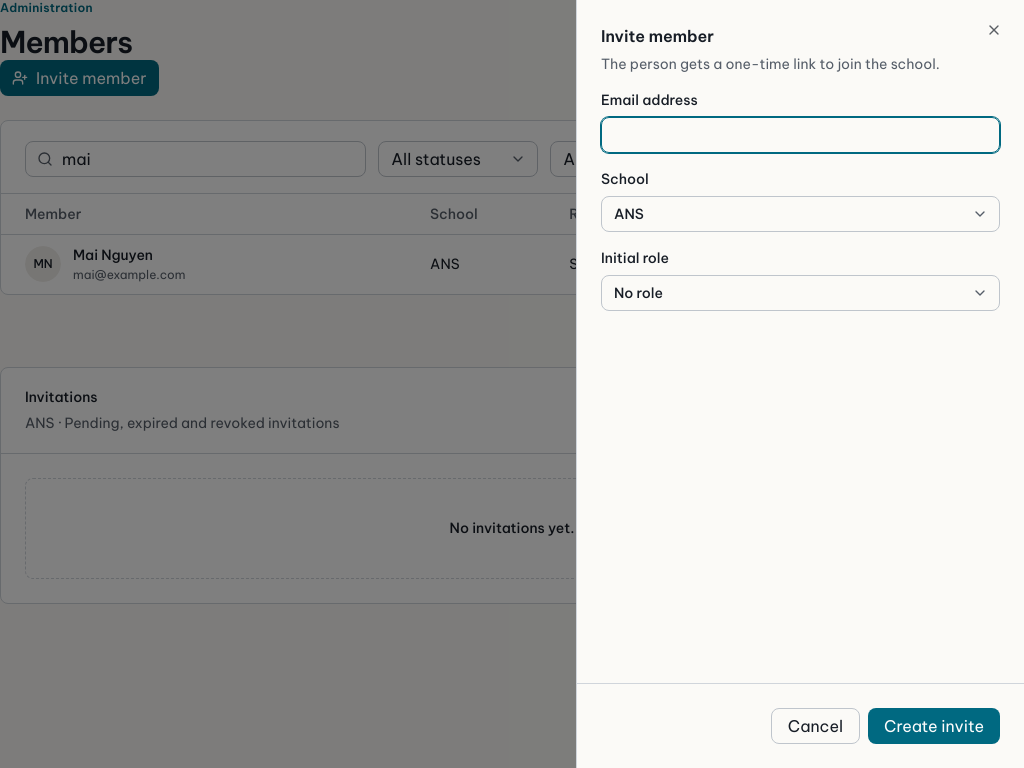
Test case: MembersDirectory (staff refresh) › opens the invite sheet once from ?invite=1 and drops the parameter when it closes
The width and height of the screenshot is (1024, 768).
Check: the field labelled "Email address" is shown, box [601,117,1000,153]
Check: the button "Create invite" is shown, box [868,708,1000,744]
Click the button "Cancel": [815, 726] box [771,708,860,744]
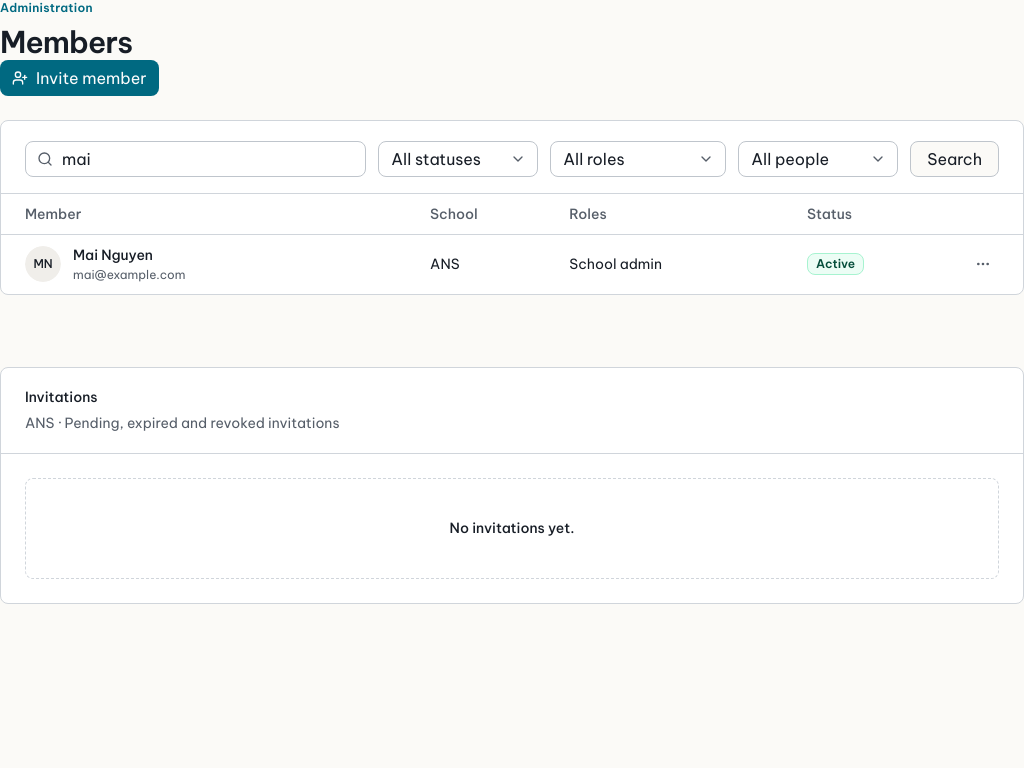
Check: the dialog is gone
